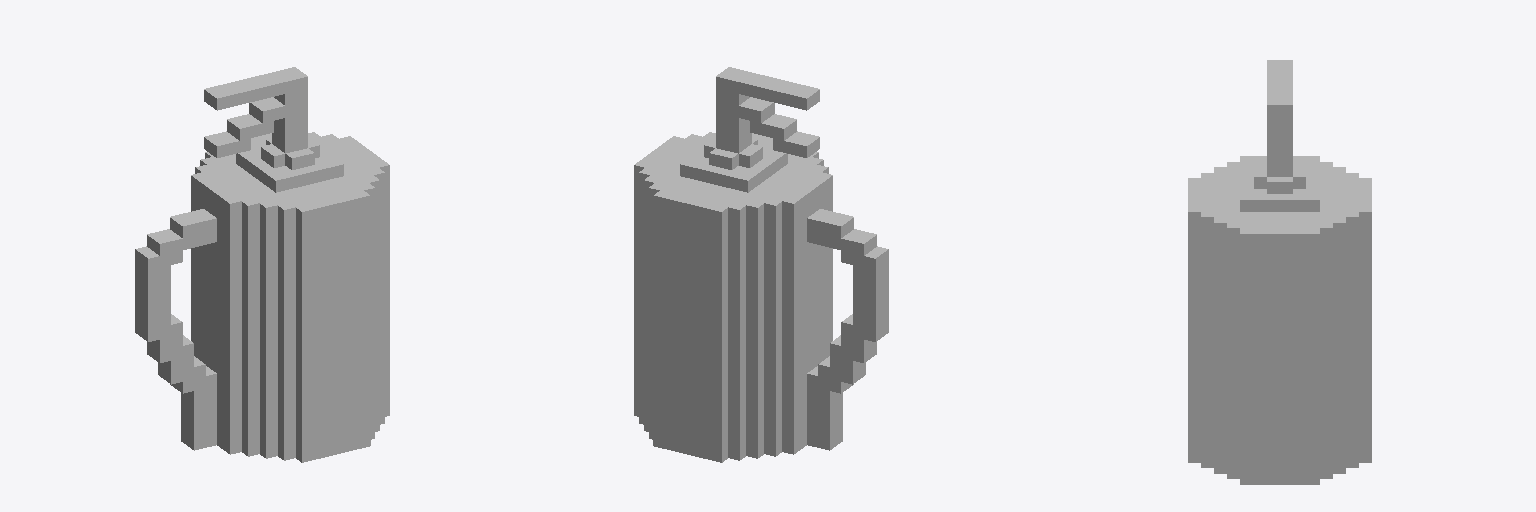
File: Extintor.obj
3 renders of one model, left to right at view 1: azimuth 30°, elevation 25°; view 2: azimuth 150°, elevation 25°; view 3: azimuth 270°, elevation 25°, orthographic.
Parts seen in each view (by area): view 1: object 1; view 2: object 1; view 3: object 1.
Boxes of the visible parts, x1=… form: object 1: x1=135, y1=67, x2=389, y2=462; object 1: x1=634, y1=67, x2=888, y2=462; object 1: x1=1188, y1=60, x2=1371, y2=484.
Size of the model in its own units: 12 by 17.4 by 8.4.